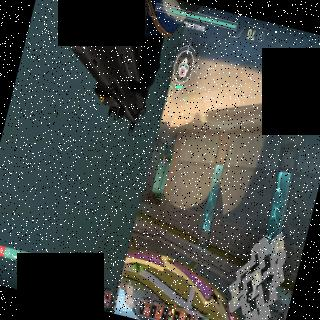ENEMY-BODY: (160, 144, 170, 166)
ENEMY-HEAD: (162, 161, 164, 165)
